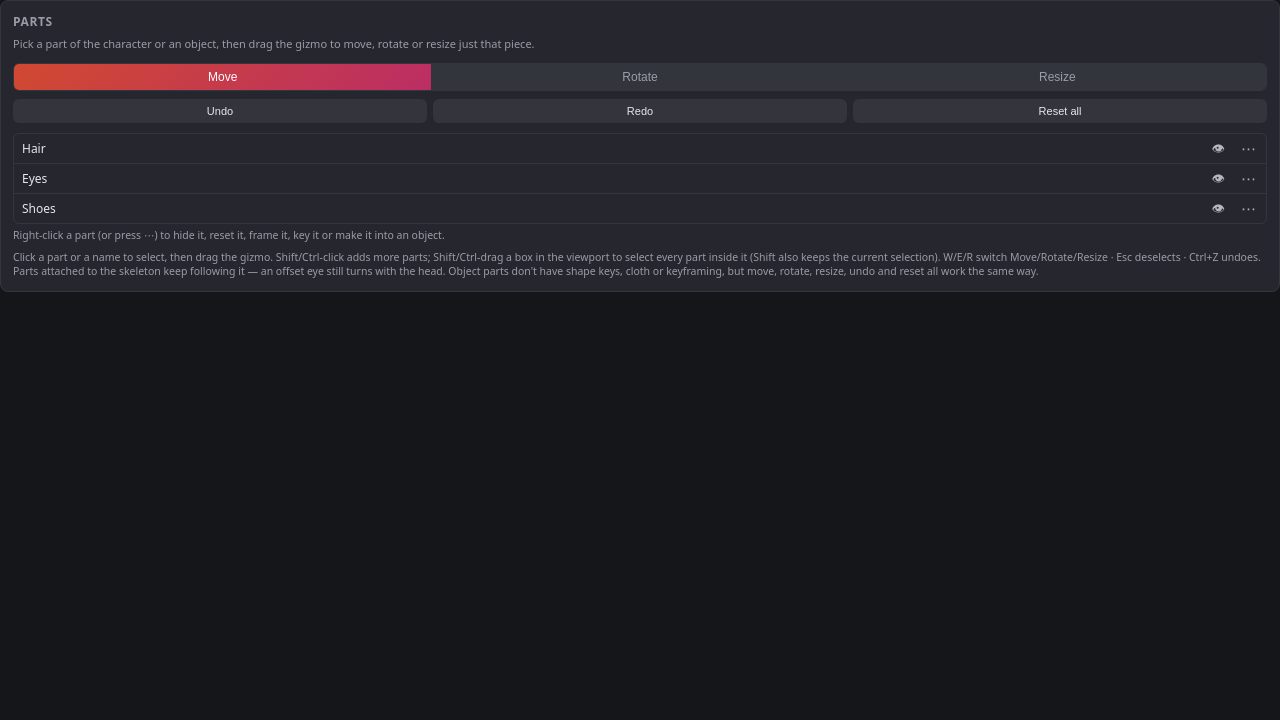
Parts panel: multi-select from the list › says how many parts are selected and offers group actions only then
Click the text "Hair".
click(640, 148)  # box [14, 134, 1266, 164]
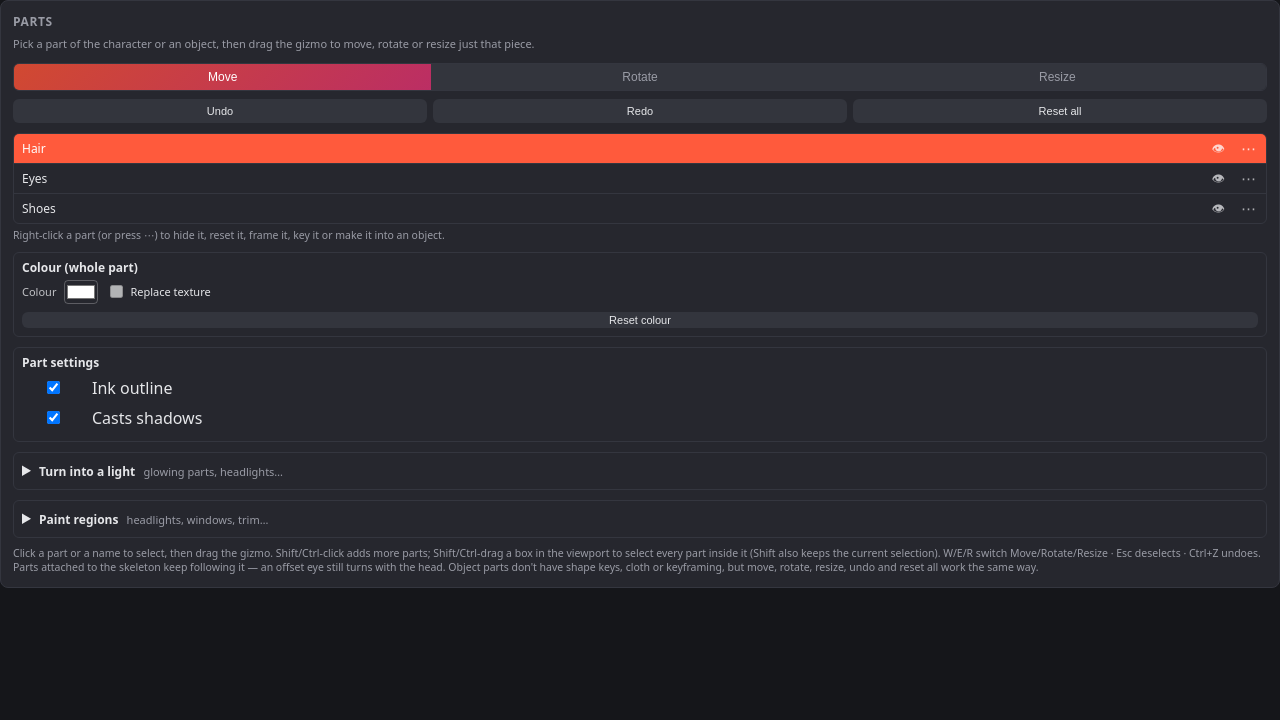
Expected: the text "parts selected" is not shown
Click the text "Eyes".
click(640, 178)  # box [14, 164, 1266, 194]
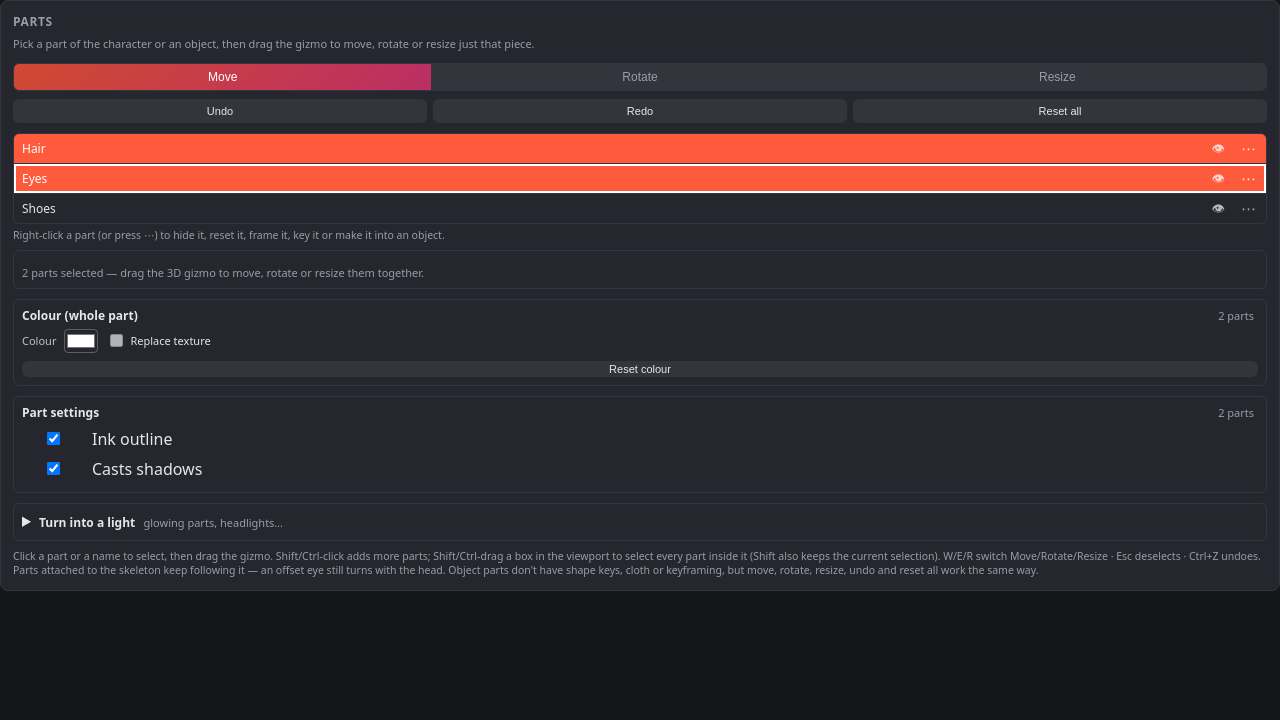
Now the text "2 parts selected" is shown, box [22, 264, 424, 280]
// the group actions live in the row menu, and act on the whole selection
Right-click the text "Eyes".
right_click(640, 178)  # box [14, 164, 1266, 194]
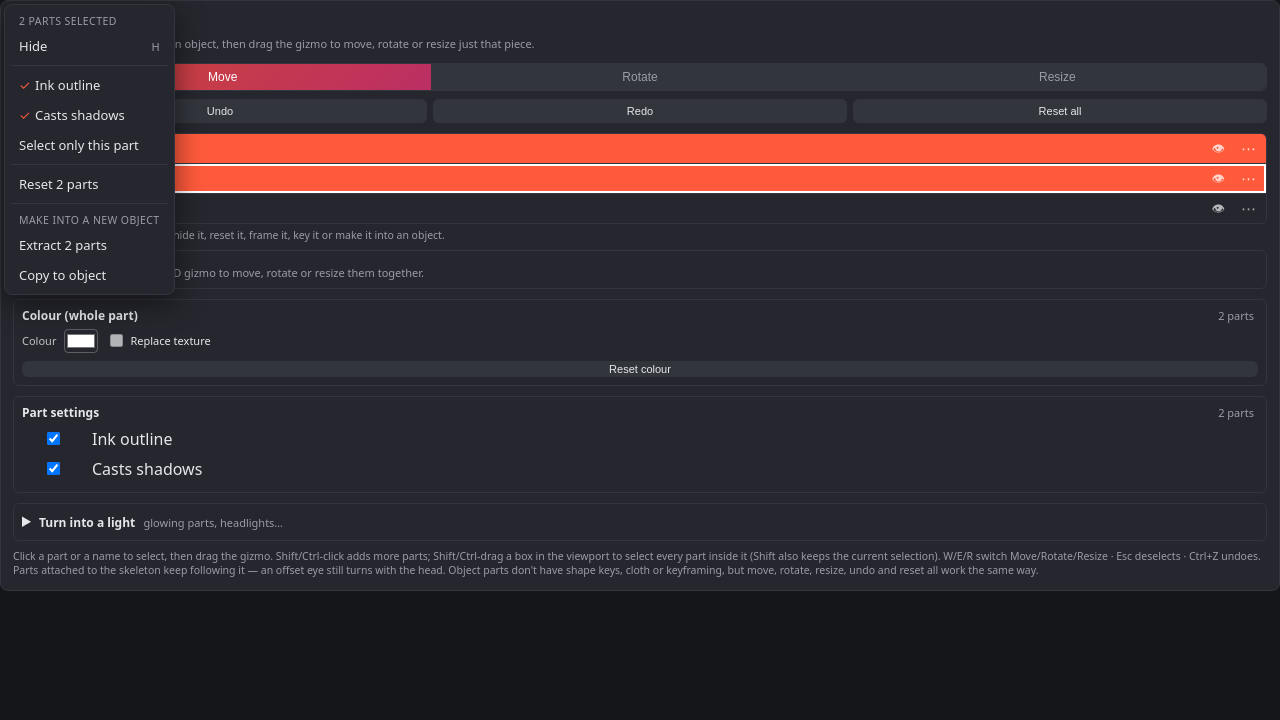
Now the menu item "Reset 2 parts" is shown, box [9, 169, 170, 199]
